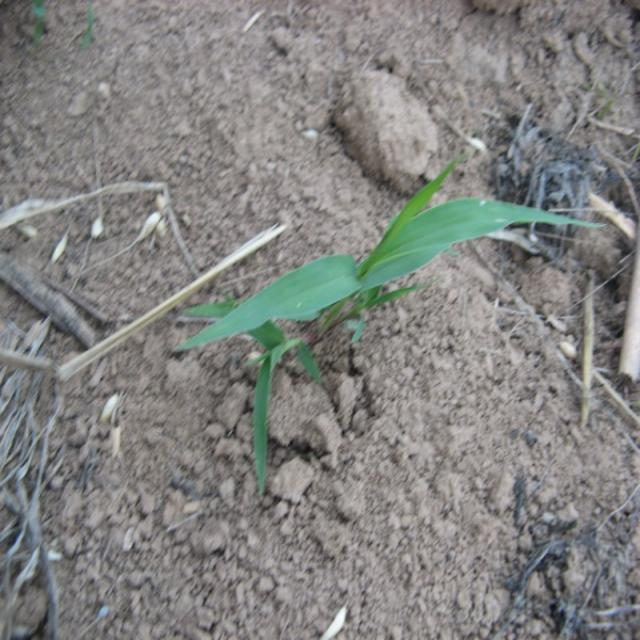bg: (178, 170, 609, 486)
